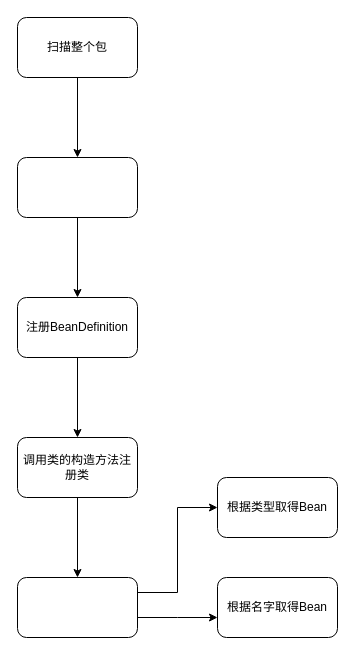
The diagram is 355 pixels wide and 655 high, and some of its shapes have lost their labels. The shapes that lost their labels are listed below. From the top down, each one's centre as x and y in pixels, then its label:
(77,187): 找到带有注释的类
(77,607): IoC容器
